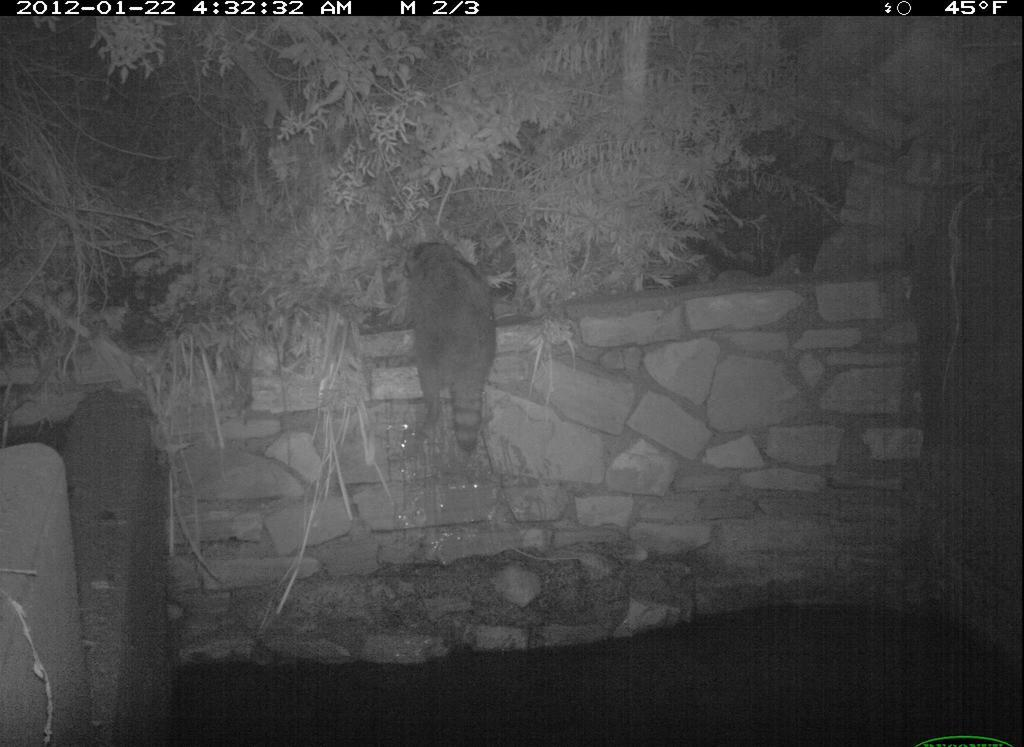raccoon: (388, 218, 515, 446)
